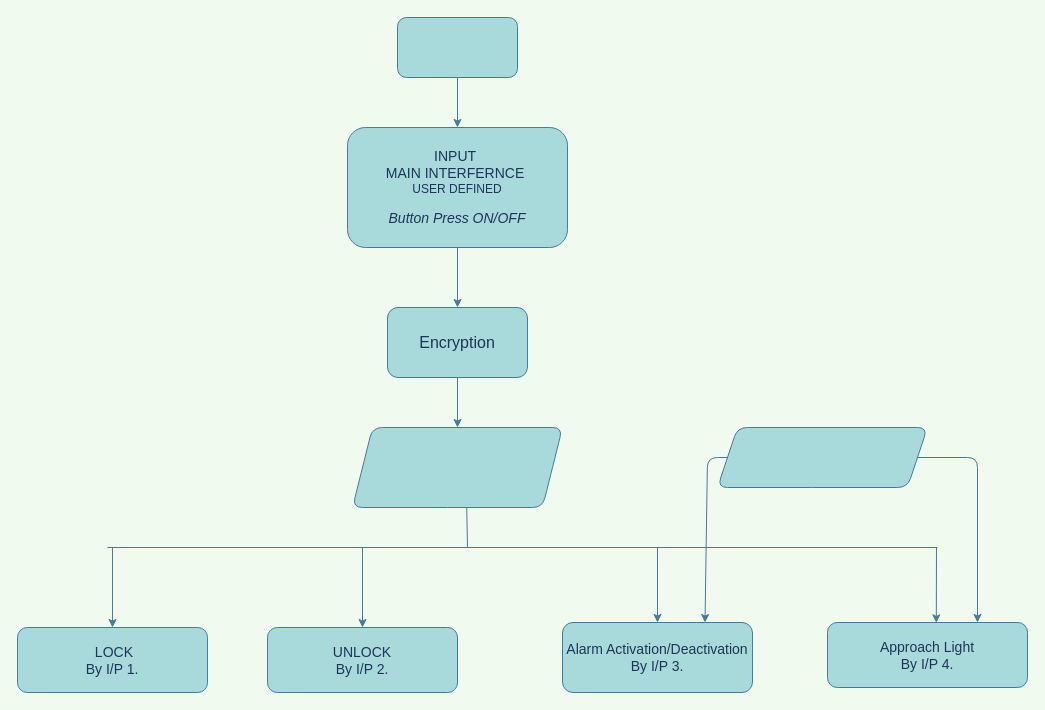
This 1045x710 diagram has some shape labels left out. The shapes that lost their labels are listed below. From the top down, each one's centre as x and y in pixels, then its label:
At pixel 457 47: "USER".
At pixel 457 467: "Rectifying the user's input. 1/2/3/4".
At pixel 822 457: "These require a delay()".
